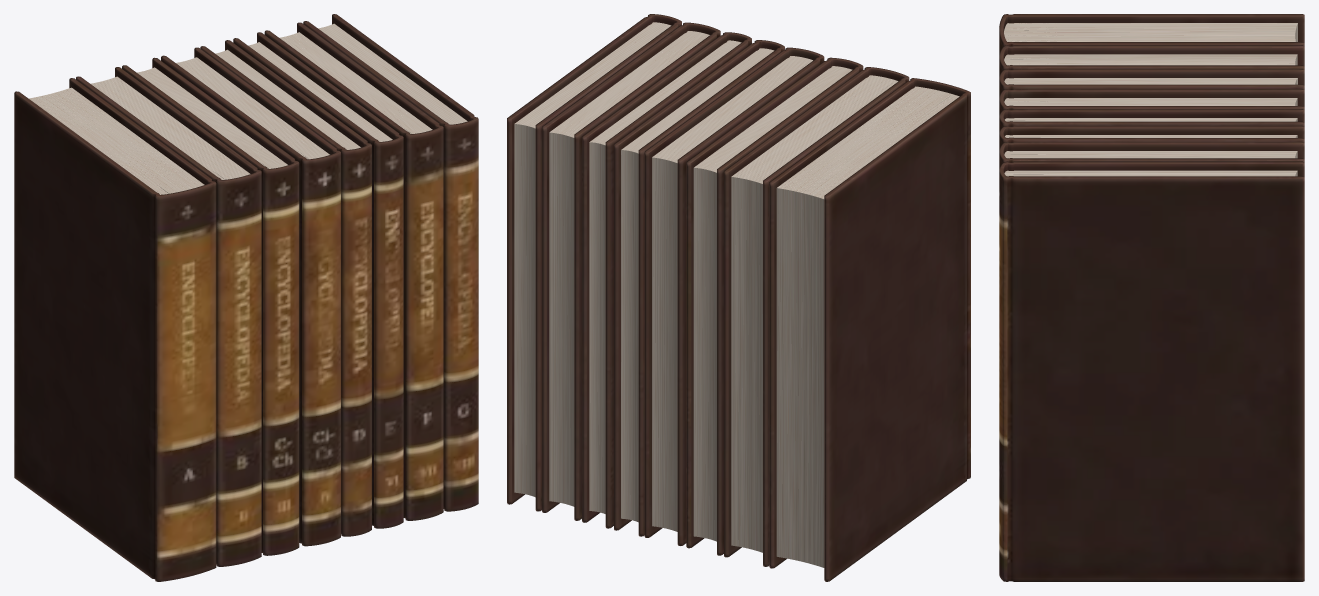
File: book_encyclopedia_set_01.glb
3 views of the same model, side by side, from view 1: azimuth 30°, elevation 25°; view 2: azimuth 150°, elevation 25°; view 3: azimuth 270°, elevation 25° (orthographic). The views are drawn at different scales.
Parts seen in each view (by area): view 1: book_encyclopedia_set_01_book01, book_encyclopedia_set_01_book02, book_encyclopedia_set_01_book04, book_encyclopedia_set_01_book07, book_encyclopedia_set_01_book03, book_encyclopedia_set_01_book08, book_encyclopedia_set_01_book06, book_encyclopedia_set_01_book05; view 2: book_encyclopedia_set_01_book01, book_encyclopedia_set_01_book02, book_encyclopedia_set_01_book04, book_encyclopedia_set_01_book07, book_encyclopedia_set_01_book03, book_encyclopedia_set_01_book08, book_encyclopedia_set_01_book06, book_encyclopedia_set_01_book05; view 3: book_encyclopedia_set_01_book08, book_encyclopedia_set_01_book01, book_encyclopedia_set_01_book02, book_encyclopedia_set_01_book03, book_encyclopedia_set_01_book04, book_encyclopedia_set_01_book07, book_encyclopedia_set_01_book05, book_encyclopedia_set_01_book06.
Boxes of the visible parts, left/top/right/bottom form: book_encyclopedia_set_01_book01: left=14, top=78, right=216, bottom=581; book_encyclopedia_set_01_book02: left=76, top=67, right=261, bottom=566; book_encyclopedia_set_01_book04: left=161, top=47, right=340, bottom=546; book_encyclopedia_set_01_book07: left=264, top=22, right=443, bottom=520; book_encyclopedia_set_01_book03: left=122, top=57, right=299, bottom=555; book_encyclopedia_set_01_book08: left=303, top=14, right=478, bottom=511; book_encyclopedia_set_01_book06: left=233, top=32, right=403, bottom=528; book_encyclopedia_set_01_book05: left=200, top=40, right=371, bottom=536; book_encyclopedia_set_01_book01: left=769, top=78, right=970, bottom=581; book_encyclopedia_set_01_book02: left=724, top=67, right=909, bottom=566; book_encyclopedia_set_01_book04: left=644, top=47, right=824, bottom=545; book_encyclopedia_set_01_book07: left=542, top=22, right=720, bottom=520; book_encyclopedia_set_01_book03: left=686, top=57, right=863, bottom=555; book_encyclopedia_set_01_book08: left=507, top=14, right=681, bottom=511; book_encyclopedia_set_01_book06: left=582, top=32, right=751, bottom=528; book_encyclopedia_set_01_book05: left=614, top=40, right=784, bottom=536; book_encyclopedia_set_01_book08: left=999, top=161, right=1304, bottom=581; book_encyclopedia_set_01_book01: left=999, top=14, right=1304, bottom=53; book_encyclopedia_set_01_book02: left=999, top=45, right=1304, bottom=75; book_encyclopedia_set_01_book03: left=999, top=69, right=1304, bottom=95; book_encyclopedia_set_01_book04: left=999, top=89, right=1304, bottom=114; book_encyclopedia_set_01_book07: left=999, top=142, right=1304, bottom=167; book_encyclopedia_set_01_book05: left=999, top=109, right=1304, bottom=130; book_encyclopedia_set_01_book06: left=999, top=126, right=1304, bottom=148.
Size of the model in its own units: 0.2081 by 0.2374 by 0.1631.
Materials: 2 (2 with a texture image).
